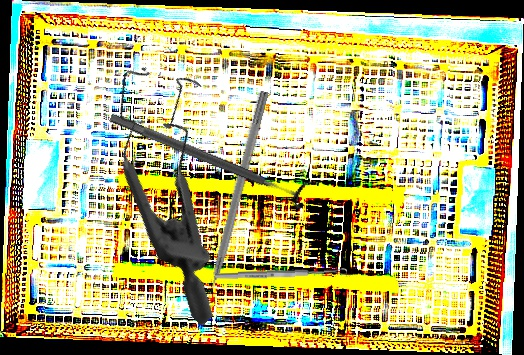Fixation Ring: (104, 101, 314, 213)
Pusher: (198, 89, 270, 314)
Speculum: (39, 41, 322, 327)
Surgical Spoon: (214, 267, 348, 281)
